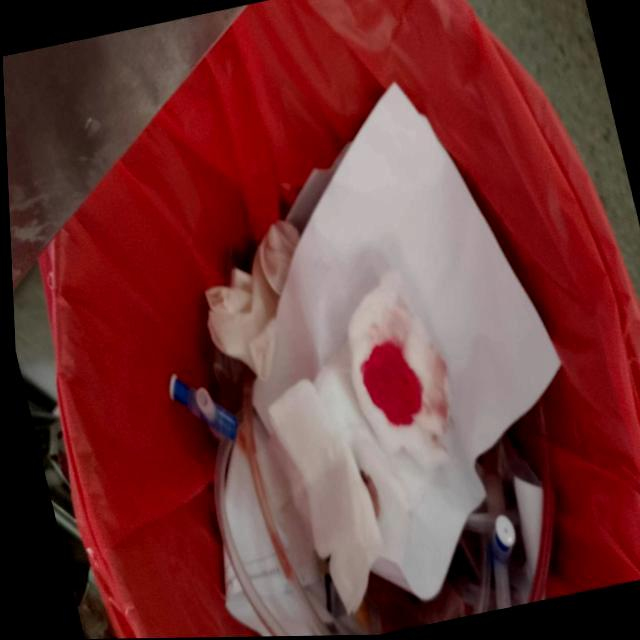General: (5, 1, 638, 637)
Pathological: (202, 80, 563, 633)
Sharps: (167, 372, 238, 443)
